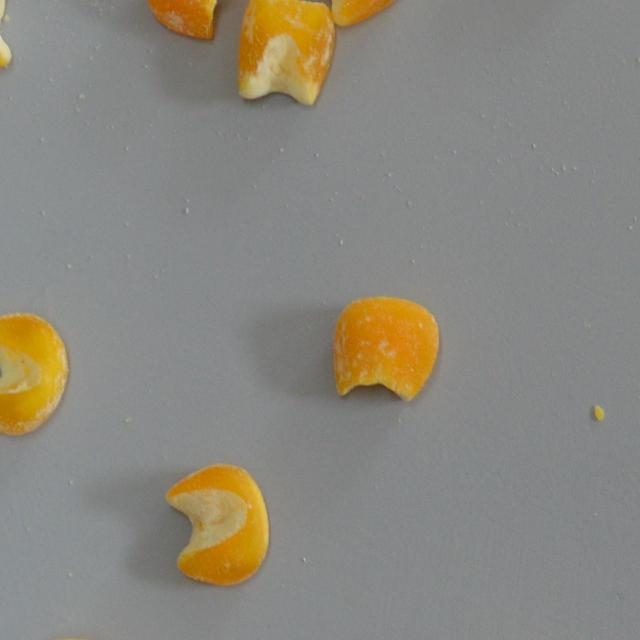dañado: (143, 0, 260, 40)
pelicula: (166, 464, 268, 586), (332, 294, 439, 402), (234, 0, 334, 108), (0, 311, 69, 437), (293, 0, 417, 27)
